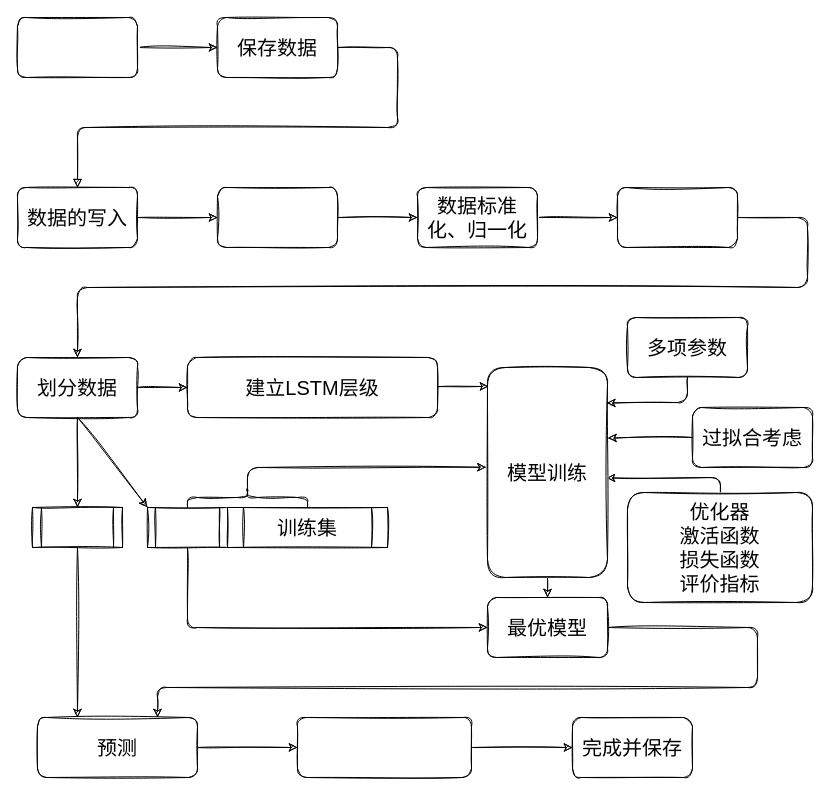
This 833x795 diagram has some shape labels left out. The shapes that lost their labels are listed below. From the top down, each one's centre as x and y in pixels, then its label:
At (x=77, y=47): "获取数据".
At (x=277, y=217): "删除相同列".
At (x=677, y=217): "转换数据类型".
At (x=77, y=527): "测试集".
At (x=187, y=527): "验证集".
At (x=384, y=747): "图形对比".
